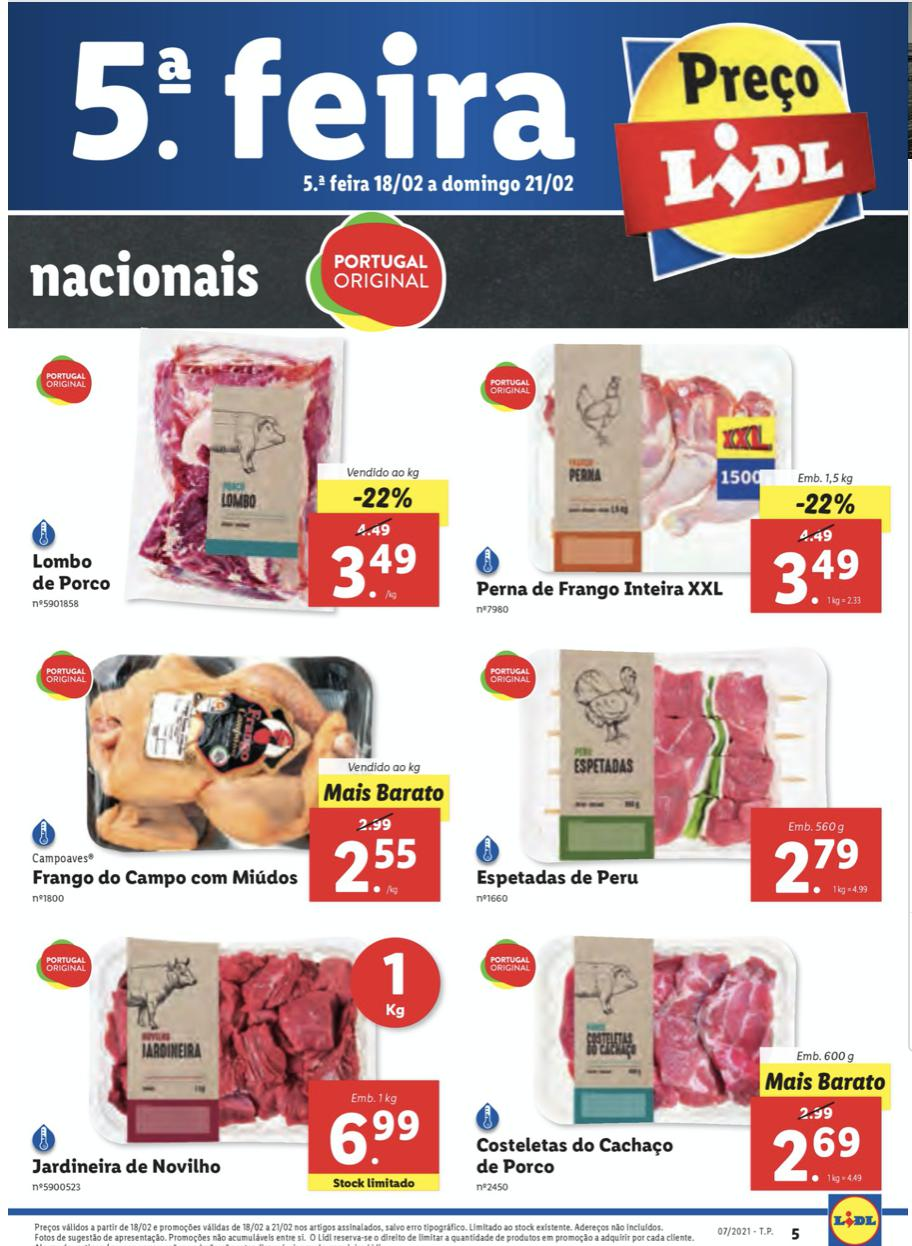name: (468, 1130, 676, 1181), (25, 862, 304, 890), (473, 576, 730, 604), (30, 1154, 227, 1182), (473, 867, 644, 893), (27, 554, 119, 594)
price: (325, 541, 431, 607), (331, 830, 427, 901), (771, 1119, 867, 1188), (327, 1107, 425, 1174), (773, 545, 868, 611), (770, 838, 877, 896)
product: (10, 330, 464, 631), (454, 339, 893, 633), (457, 633, 893, 919), (5, 645, 457, 919), (11, 931, 457, 1201), (457, 930, 897, 1201)
